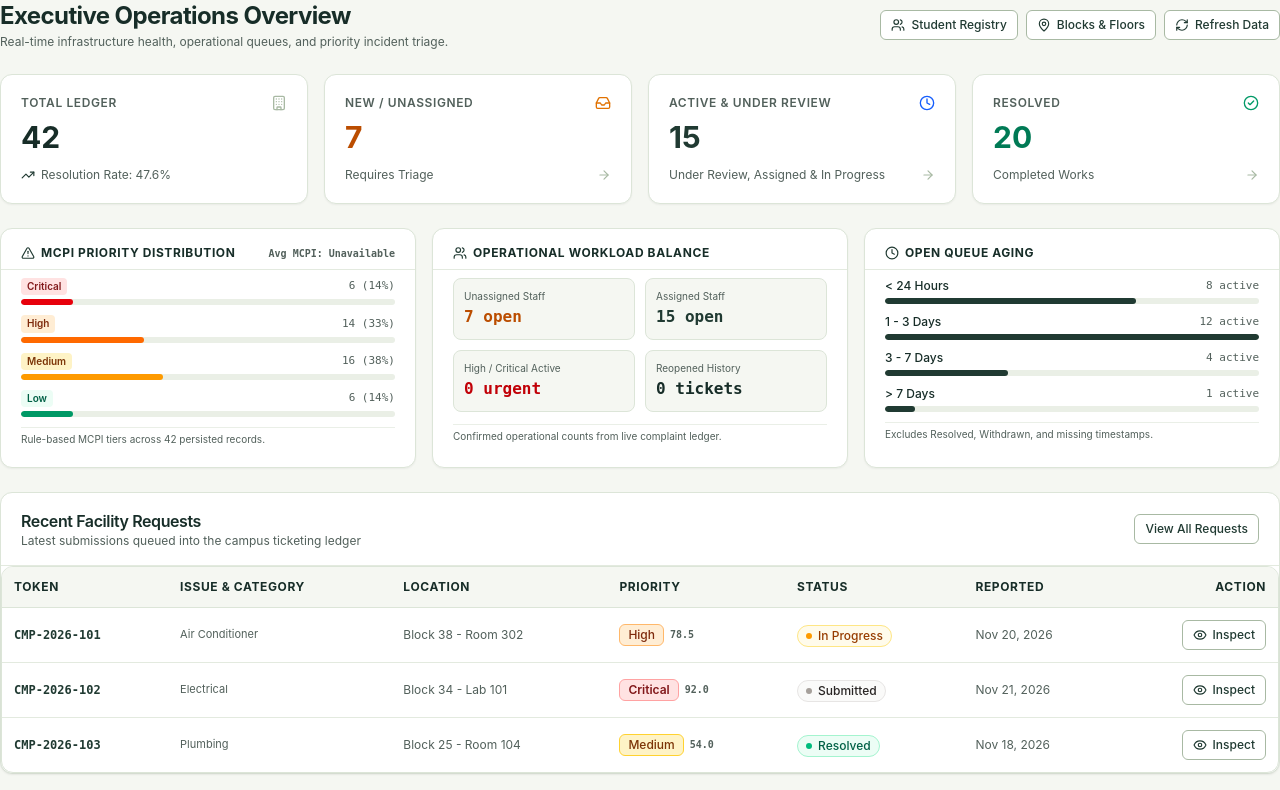
Test: FIPP 2.0 Phase 4 — Administrator Control Centre Tests › 2. renders AdminOverviewPage with live KPIs and opens ComplaintDetailsDrawer on inspect
expect the heading "Executive Operations Overview" is shown: met, box [0, 1, 351, 30]
expect the text "42" is shown: met, box [21, 119, 60, 155]
// Click "Inspect" button on first row
Click the button "Inspect" in the row of "CMP-2026-101". click: x=1224, y=635
box: [1182, 620, 1266, 650]
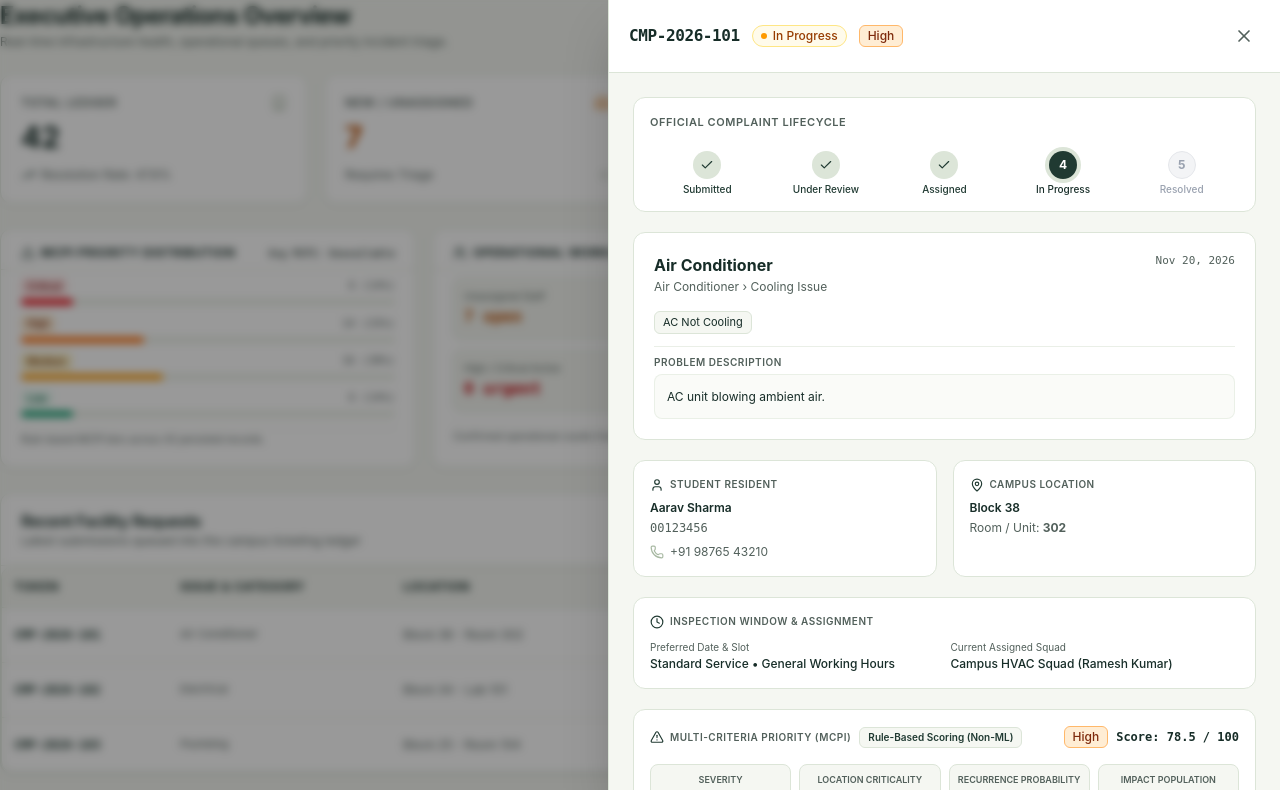
expect the text "Official Complaint Lifecycle" is shown: met, box [650, 115, 846, 129]
expect the text "AC unit blowing ambient air." is shown: met, box [654, 374, 1235, 419]
expect the text "Multi-Criteria Priority (MCPI)" is shown: met, box [650, 730, 851, 745]
